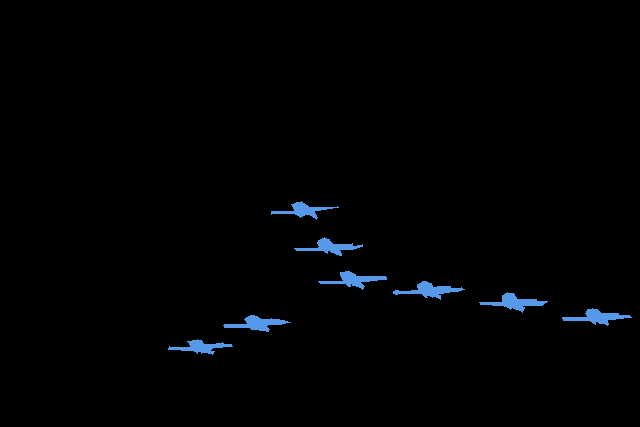Airplane: (479, 292, 548, 312), (393, 281, 464, 300), (294, 237, 363, 256), (318, 271, 386, 290), (562, 308, 632, 326), (271, 201, 339, 219), (223, 315, 290, 332), (168, 339, 232, 355)
